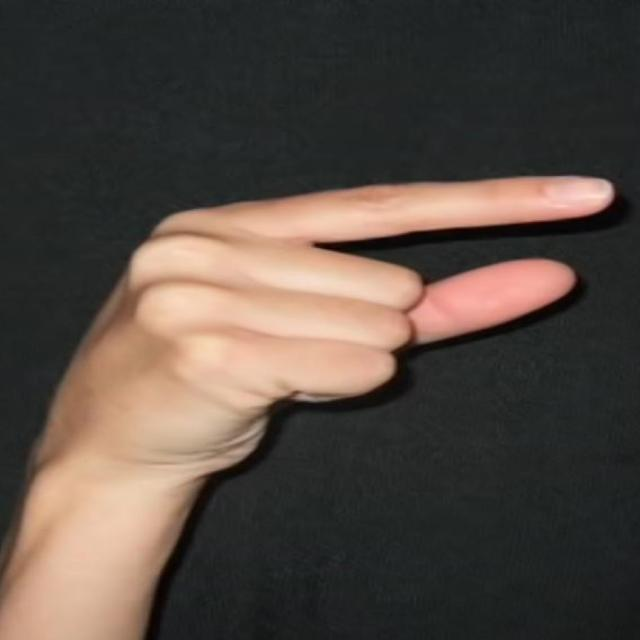G: (17, 158, 625, 478)
